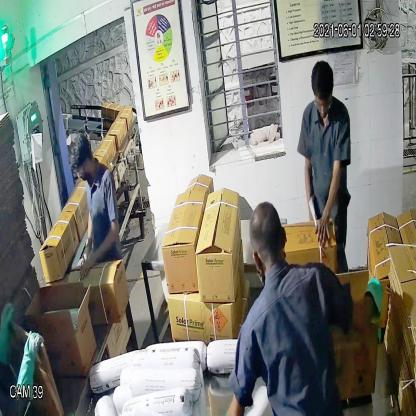goggles: (310, 90, 336, 113)
